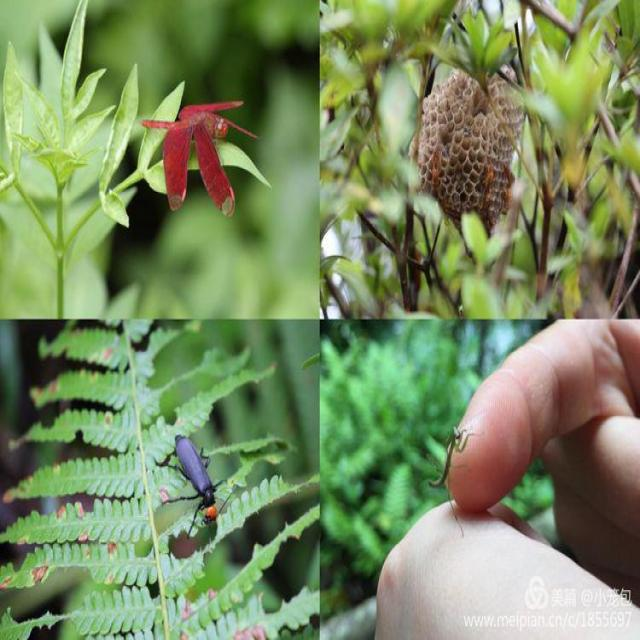BlisterBeetle-Adult-: (157, 425, 226, 536)
